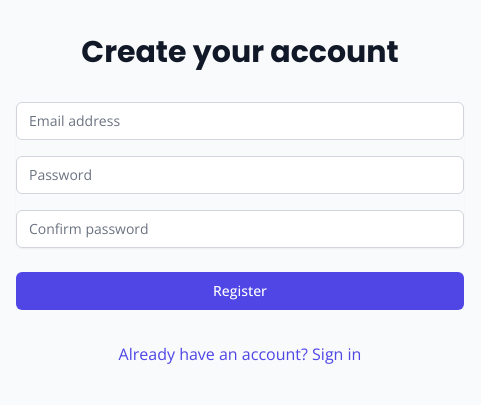
Test: Register Component › validates password minimum length
Type "test@example.com" into the field with placeholder "Email address".
click(240, 121); type("test@example.com")  # box [16,102,464,140]
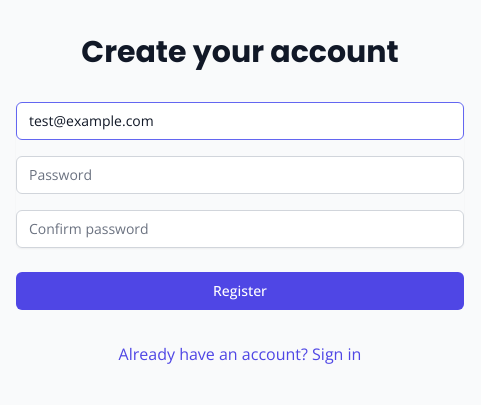
Type "12345" into the password field with placeholder "Password".
click(240, 175); type("12345")  # box [16,156,464,194]
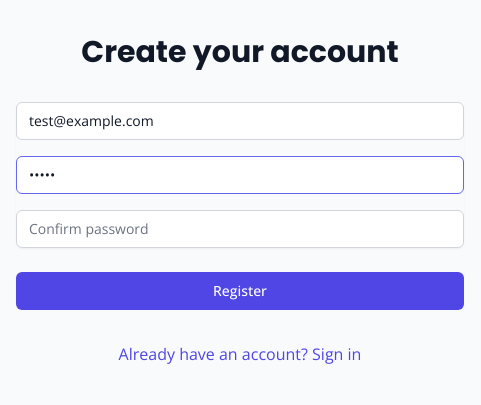
Click the button "Register".
click(240, 291)  # box [16,272,464,310]
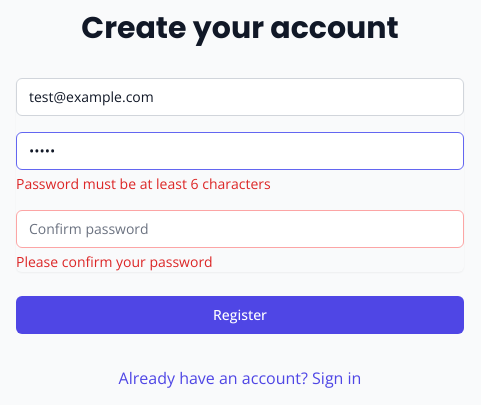
Check: the text "Password must be at least 6 characters" is shown, box [16,174,271,193]
